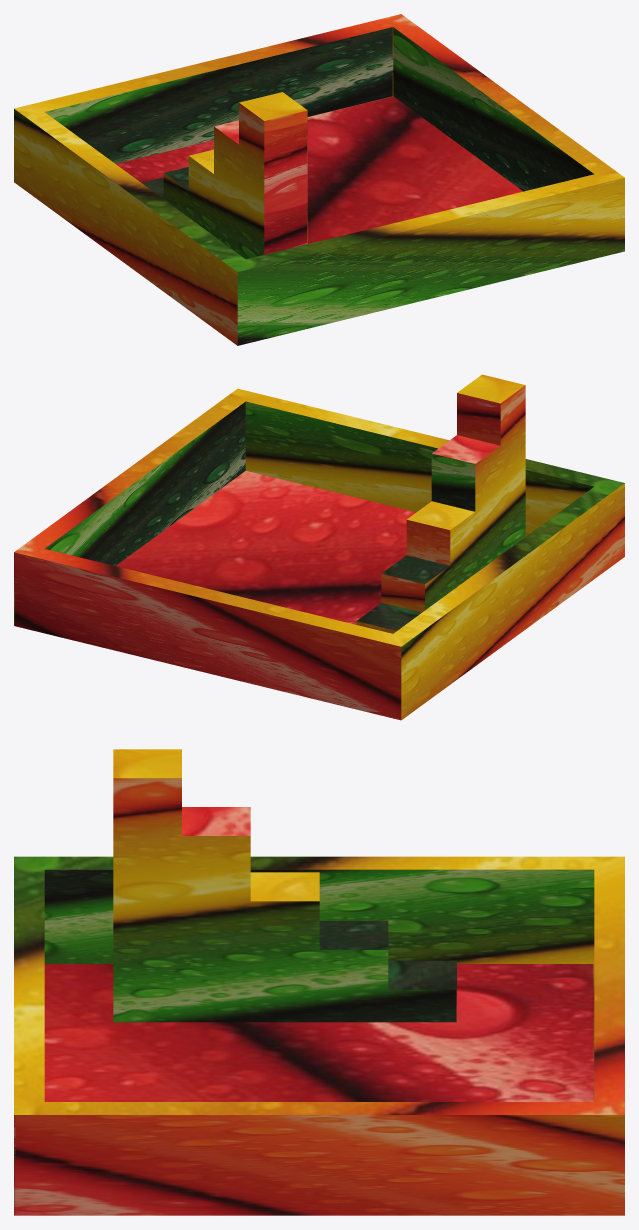
The model's file is terreno_sala1.dae.
3 views of the same model, one above another, from view 1: azimuth 30°, elevation 25°; view 2: azimuth 150°, elevation 25°; view 3: azimuth 270°, elevation 25° (orthographic). The views are drawn at different scales.
Parts seen in each view (by area): view 1: TerrenoSala1-col; view 2: TerrenoSala1-col; view 3: TerrenoSala1-col.
Boxes of the visible parts, <box> form: TerrenoSala1-col: <box>14,14,624,345</box>; TerrenoSala1-col: <box>14,374,624,720</box>; TerrenoSala1-col: <box>14,749,624,1215</box>.
Bounding box in the file's own units: 11 × 11 × 4.96.
Materials: 1 (1 with a texture image).
